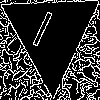I: (25, 10, 55, 57)
